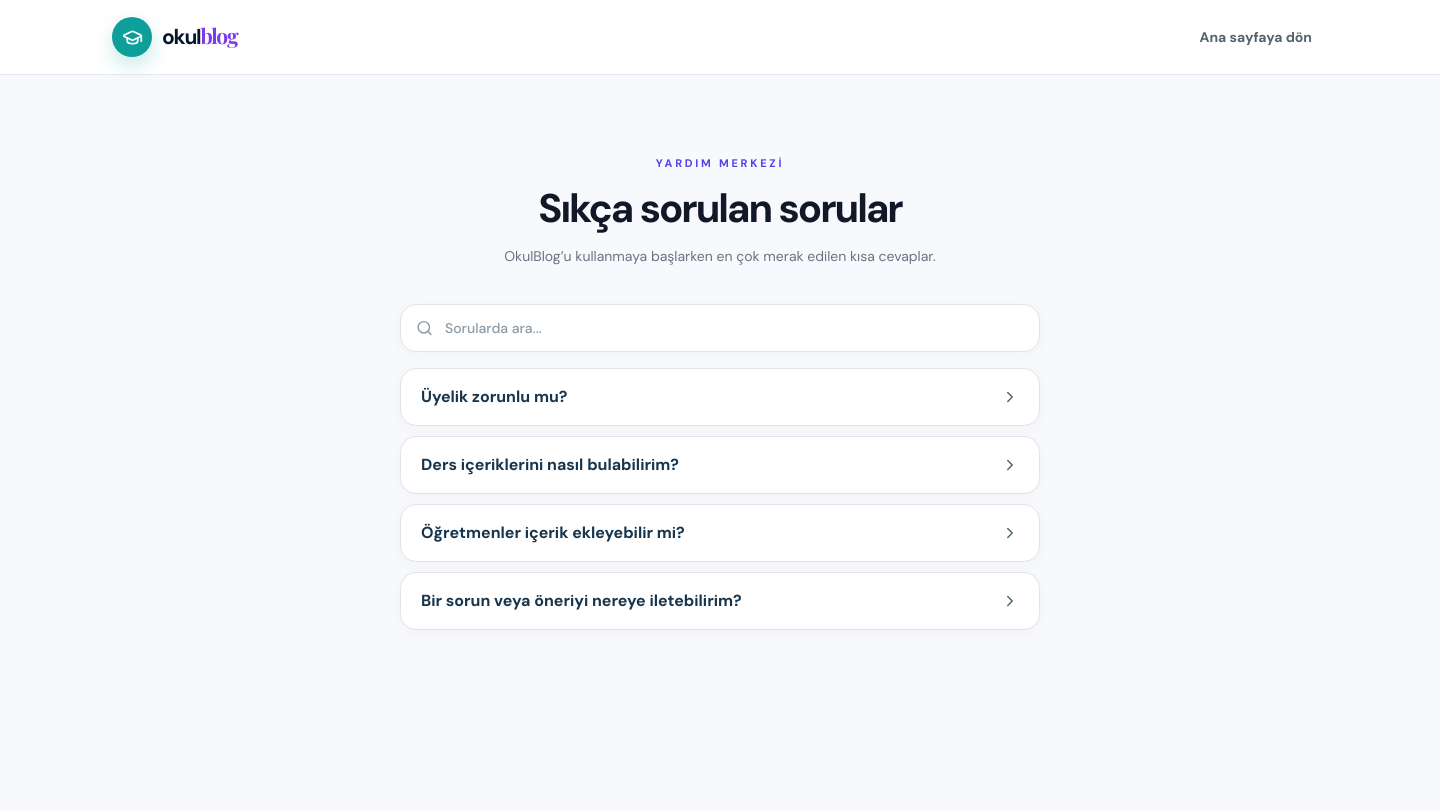
it: FAQ page › arama sonucunu anında filtreler
The width and height of the screenshot is (1440, 810).
Type "üyelik" into the field named "SSS içinde ara". click: (720, 328)
box: [400,304,1040,352]
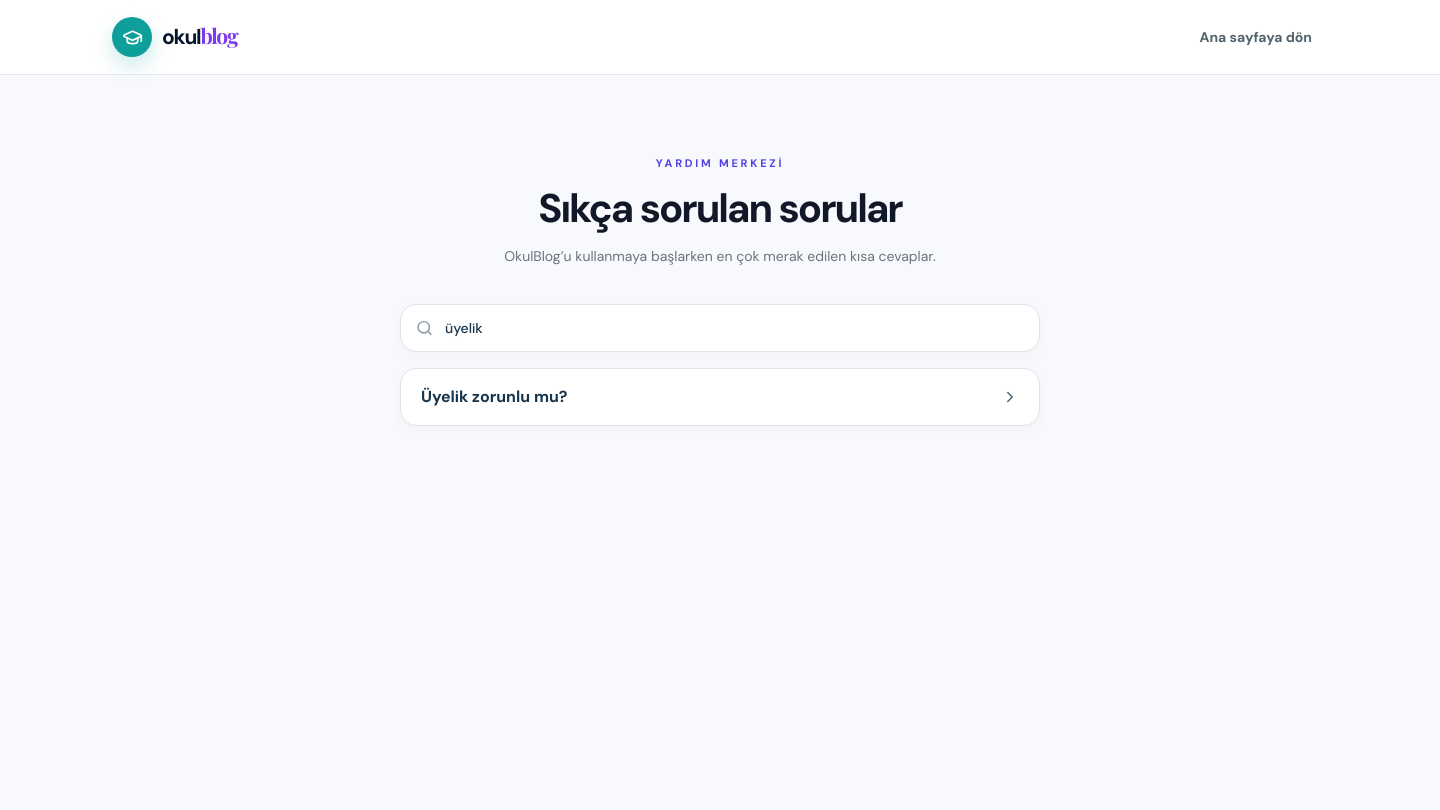
Expected: the text "Üyelik zorunlu mu?" is shown, [421,384,567,408]
Expected: the heading "Öğretmenler içerik ekleyebilir mi?" is gone
